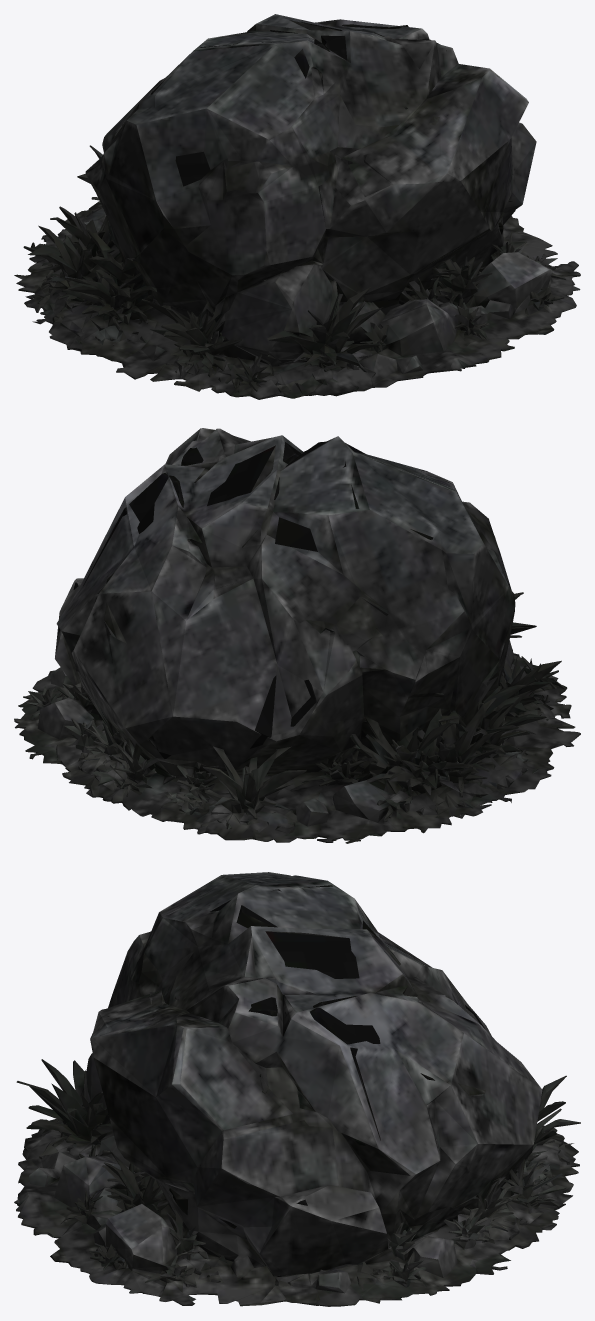
Rendered from basalt_boulder_01.glb.
3 renders of one model, top to bottom at view 1: azimuth 30°, elevation 25°; view 2: azimuth 150°, elevation 25°; view 3: azimuth 270°, elevation 25°, orthographic. The views are drawn at different scales.
Visible parts, largest first — view 1: geometry_0; view 2: geometry_0; view 3: geometry_0.
Boxes of the visible parts, <box> form: geometry_0: <box>14,14,580,399</box>; geometry_0: <box>14,428,580,843</box>; geometry_0: <box>14,872,580,1306</box>.
Bounding box in the file's own units: 0.9995 × 0.5579 × 0.9739.
1 material, 1 textured.
